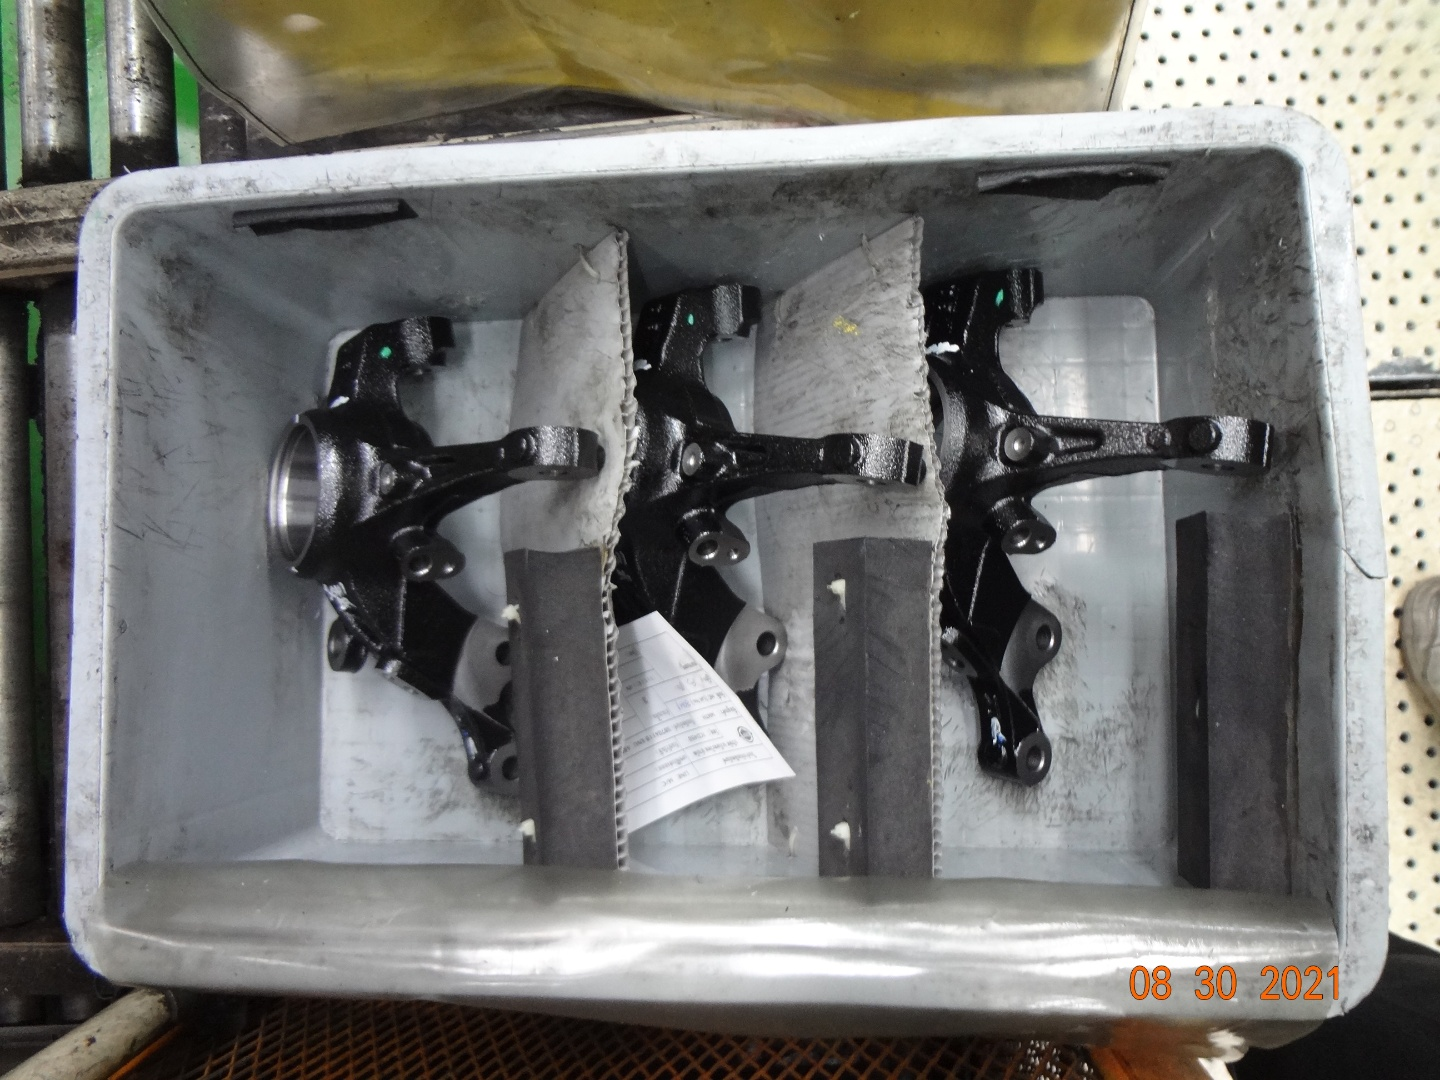abs-rh: (922, 256, 1284, 803), (254, 305, 610, 799), (622, 273, 926, 793)
